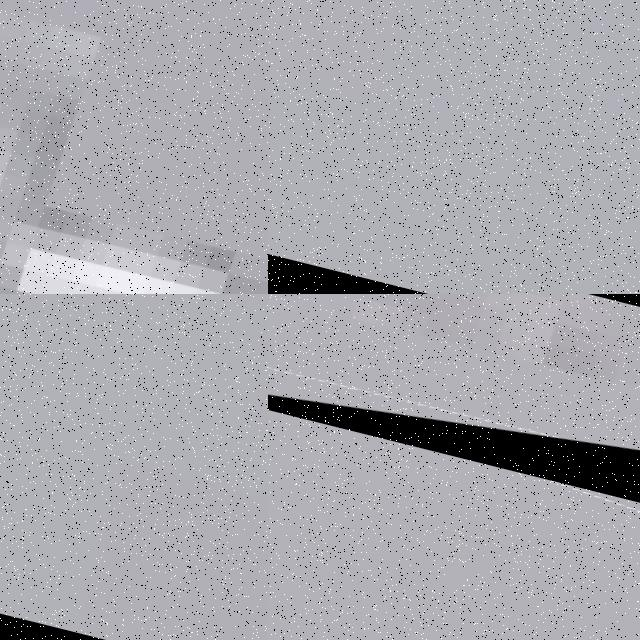drone: (268, 294, 640, 525), (0, 0, 268, 294)
